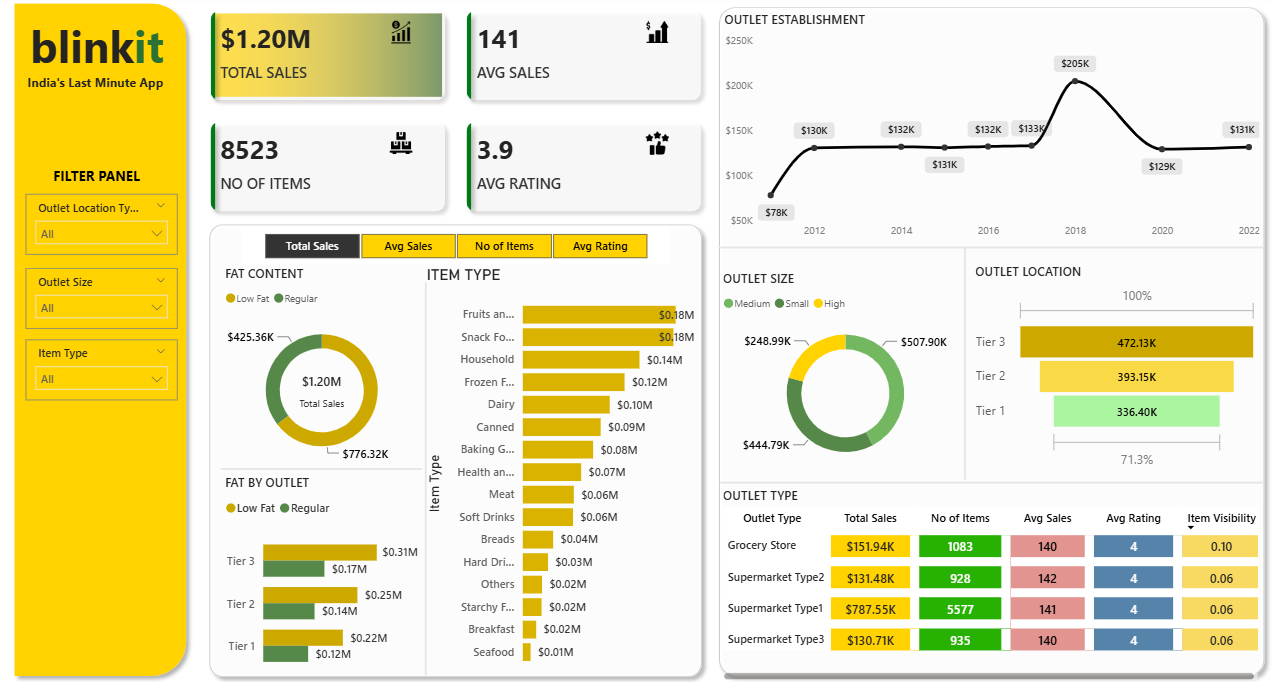

What the dashboard file says about the page in this screenshot:
{"tool":"powerbi","page":{"name":"Blinkit analysis dashboard","canvas":[1400,800],"ordinal":0},"visuals":[{"type":"shape","box":[10,0,205,750],"z":0},{"type":"textbox","box":[24,17.6,169.7,78.4],"z":1000},{"type":"textbox","box":[28.8,80,166.5,32],"z":2000},{"type":"cardVisual","fields":{"Data":["BlinkIT Grocery Data.Total Sales","BlinkIT Grocery Data.Avg Sales","BlinkIT Grocery Data.No of Items","BlinkIT Grocery Data.Avg Rating"]},"box":[214.5,0,569.8,252.9],"z":3000},{"type":"shape","box":[222.5,240.1,553.8,510.6],"z":4000},{"type":"donutChart","title":"FAT CONTENT","fields":{"Y":["BlinkIT Grocery Data.Total Sales"],"Category":["BlinkIT Grocery Data.Item Fat Content"]},"box":[243.3,292.9,219.3,230.5],"z":5000},{"type":"slicer","fields":{"Values":["Metrics.Metrics"]},"box":[265.7,252.9,465.8,40],"z":6000},{"type":"cardVisual","fields":{"Data":["BlinkIT Grocery Data.Total Sales"]},"box":[308.4,390.4,90.5,80.6],"z":7000},{"type":"clusteredBarChart","title":"FAT BY OUTLET","fields":{"Y":["BlinkIT Grocery Data.Total Sales"],"Category":["BlinkIT Grocery Data.Outlet Location Type"],"Series":["BlinkIT Grocery Data.Item Fat Content"]},"box":[243.3,520.2,219.3,230.5],"z":8000},{"type":"shape","box":[243.3,496.2,219.3,38.4],"z":9000},{"type":"shape","box":[456.2,312.1,19.2,427.4],"z":10000},{"type":"barChart","title":"ITEM TYPE","fields":{"Y":["BlinkIT Grocery Data.Total Sales"],"Category":["BlinkIT Grocery Data.Item Type"]},"box":[462.6,294.5,300.9,445],"z":11000},{"type":"shape","box":[776.3,4.8,611.5,745.9],"z":12000},{"type":"lineChart","title":"OUTLET ESTABLISHMENT","fields":{"Y":["BlinkIT Grocery Data.Total Sales"],"Category":["BlinkIT Grocery Data.Outlet Establishment Year"]},"box":[785.9,17.6,592.3,256.1],"z":13000},{"type":"shape","box":[784.3,265.7,592.3,17.6],"z":14000},{"type":"donutChart","title":"OUTLET SIZE","fields":{"Y":["BlinkIT Grocery Data.Total Sales"],"Category":["BlinkIT Grocery Data.Outlet Size"]},"box":[784.3,297.7,275.3,225.7],"z":15000},{"type":"shape","box":[1046.8,273.7,12.8,252.9],"z":16000},{"type":"funnel","title":"OUTLET LOCATION","fields":{"Y":["Sum(BlinkIT Grocery Data.Sales)"],"Category":["BlinkIT Grocery Data.Outlet Location Type"]},"box":[1059.7,291.3,316.9,228.9],"z":17000},{"type":"shape","box":[785.9,517,592.3,25.6],"z":18000},{"type":"pivotTable","title":"OUTLET TYPE","fields":{"Rows":["BlinkIT Grocery Data.Outlet Type"],"Values":["BlinkIT Grocery Data.Total Sales","BlinkIT Grocery Data.No of Items","BlinkIT Grocery Data.Avg Sales","BlinkIT Grocery Data.Avg Rating","Avg(BlinkIT Grocery Data.Item Visibility)"]},"box":[784.3,534.6,592.3,216.1],"z":19000},{"type":"slicer","fields":{"Values":["BlinkIT Grocery Data.Outlet Location Type"]},"box":[31.1,216.4,165.5,66.5],"z":20000},{"type":"slicer","fields":{"Values":["BlinkIT Grocery Data.Outlet Size"]},"box":[31.1,297,165.5,66.5],"z":21000},{"type":"slicer","fields":{"Values":["BlinkIT Grocery Data.Item Type"]},"box":[31.1,374.8,165.5,66.5],"z":22000},{"type":"textbox","box":[56.6,181.1,114.6,35.4],"z":23000}]}

Visuals, with their boxes on the page's 1400x800 design canvas (x1, y1, x2, y2). These are canvas units, not pixel positions in the 1276x682 screenshot, which may show the page scaled, cropped or inside an application window:
shape: rect(10, 0, 215, 750)
textbox: rect(24, 18, 194, 96)
textbox: rect(29, 80, 195, 112)
cardVisual - BlinkIT Grocery Data.Total Sales x BlinkIT Grocery Data.Avg Sales: rect(214, 0, 784, 253)
shape: rect(222, 240, 776, 751)
"FAT CONTENT" donutChart: rect(243, 293, 463, 523)
slicer - Metrics.Metrics: rect(266, 253, 732, 293)
cardVisual - BlinkIT Grocery Data.Total Sales: rect(308, 390, 399, 471)
"FAT BY OUTLET" clusteredBarChart: rect(243, 520, 463, 751)
shape: rect(243, 496, 463, 535)
shape: rect(456, 312, 475, 740)
"ITEM TYPE" barChart: rect(463, 294, 764, 740)
shape: rect(776, 5, 1388, 751)
"OUTLET ESTABLISHMENT" lineChart: rect(786, 18, 1378, 274)
shape: rect(784, 266, 1377, 283)
"OUTLET SIZE" donutChart: rect(784, 298, 1060, 523)
shape: rect(1047, 274, 1060, 527)
"OUTLET LOCATION" funnel: rect(1060, 291, 1377, 520)
shape: rect(786, 517, 1378, 543)
"OUTLET TYPE" pivotTable: rect(784, 535, 1377, 751)
slicer - BlinkIT Grocery Data.Outlet Location Type: rect(31, 216, 197, 283)
slicer - BlinkIT Grocery Data.Outlet Size: rect(31, 297, 197, 364)
slicer - BlinkIT Grocery Data.Item Type: rect(31, 375, 197, 441)
textbox: rect(57, 181, 171, 216)
